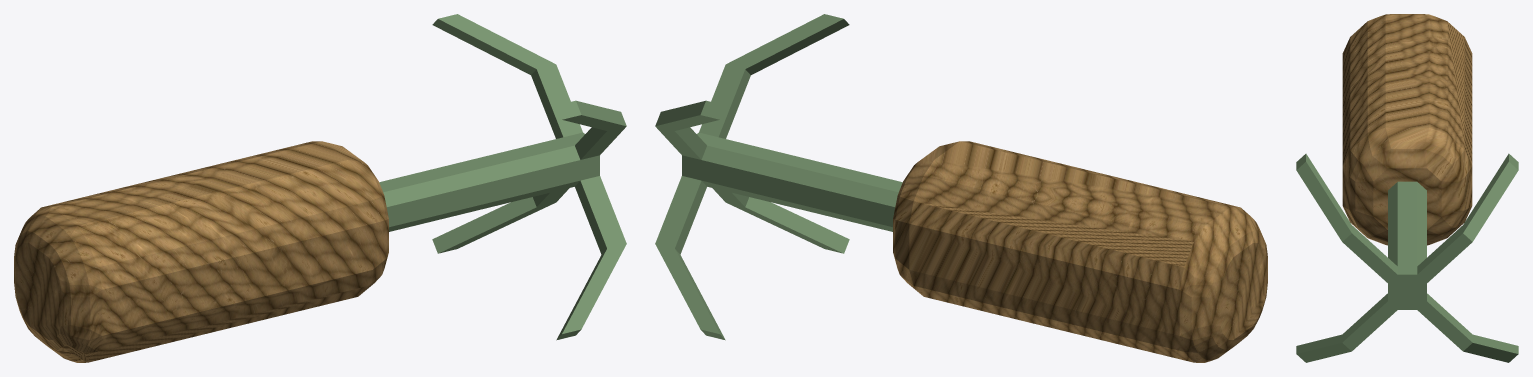
File: grappler.glb
The picture shows the model from 3 angles, left to right: view 1: azimuth 30°, elevation 25°; view 2: azimuth 150°, elevation 25°; view 3: azimuth 270°, elevation 25°; orthographic projection. The views are drawn at different scales.
Visible parts, largest first — view 1: Cube, Cube.001; view 2: Cube, Cube.001; view 3: Cube, Cube.001.
Boxes of the visible parts, x1,y1,x2,y2 form: Cube: (14, 141, 388, 362); Cube.001: (379, 14, 626, 340); Cube: (893, 141, 1267, 362); Cube.001: (655, 14, 902, 340); Cube: (1342, 14, 1472, 245); Cube.001: (1296, 153, 1518, 362).
Size of the model in its own units: 8.4 by 3.43 by 3.43.
Materials: 2 (1 with a texture image).
